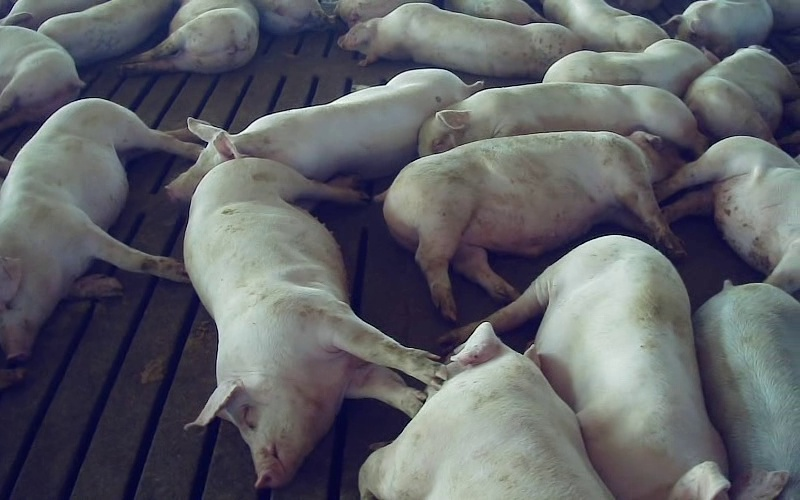pig: (185, 158, 445, 487), (384, 132, 683, 320), (0, 99, 202, 360), (359, 323, 612, 499), (166, 69, 482, 199), (693, 282, 799, 499), (655, 137, 799, 292), (418, 82, 707, 155), (338, 3, 580, 78), (684, 45, 799, 143), (121, 0, 258, 74), (543, 39, 719, 96), (543, 0, 667, 51), (663, 0, 772, 58)
